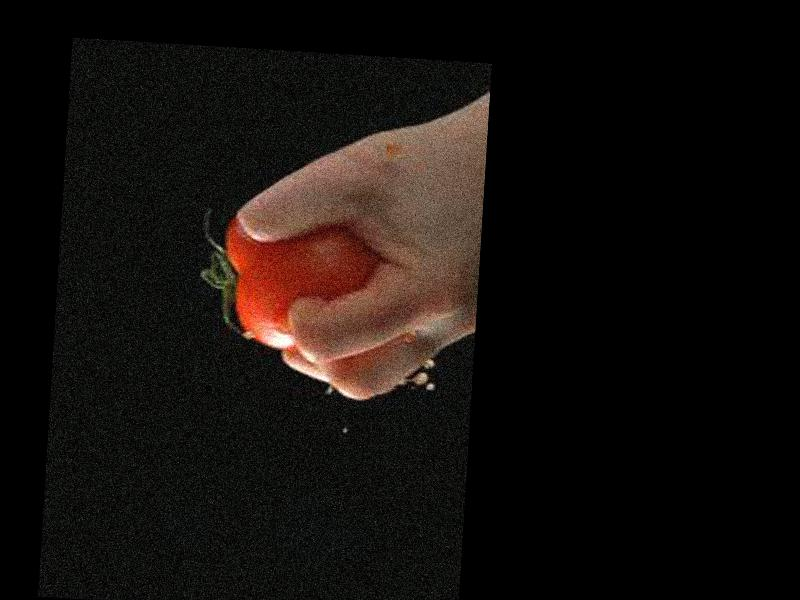Tomato: (219, 215, 379, 354)
